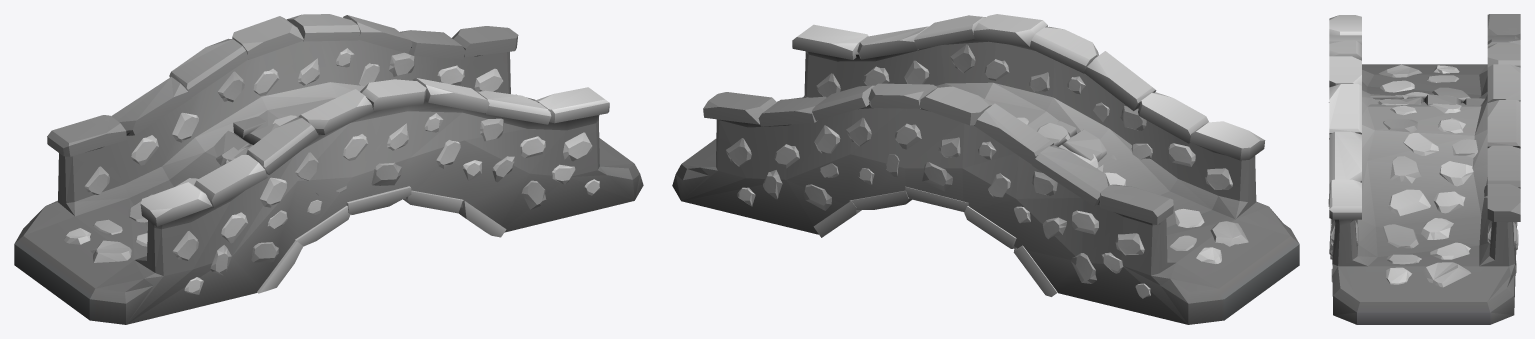
Rendered from bridgestone.glb.
The picture shows the model from 3 angles, left to right: view 1: azimuth 30°, elevation 25°; view 2: azimuth 150°, elevation 25°; view 3: azimuth 270°, elevation 25°; orthographic projection. The views are drawn at different scales.
Visible parts, largest first — view 1: BridgeStone_mesh2, BridgeStone_mesh3, BridgeStone_mesh1, BridgeStone_mesh4; view 2: BridgeStone_mesh2, BridgeStone_mesh3, BridgeStone_mesh1, BridgeStone_mesh4; view 3: BridgeStone_mesh2, BridgeStone_mesh3, BridgeStone_mesh1, BridgeStone_mesh4.
Boxes of the visible parts, bbox=[...] form: BridgeStone_mesh2: bbox=[14, 40, 643, 324]; BridgeStone_mesh3: bbox=[47, 14, 609, 293]; BridgeStone_mesh1: bbox=[64, 48, 599, 294]; BridgeStone_mesh4: bbox=[214, 116, 317, 194]; BridgeStone_mesh2: bbox=[672, 39, 1299, 324]; BridgeStone_mesh3: bbox=[703, 14, 1265, 296]; BridgeStone_mesh1: bbox=[726, 44, 1248, 298]; BridgeStone_mesh4: bbox=[1046, 121, 1116, 171]; BridgeStone_mesh2: bbox=[1331, 64, 1516, 324]; BridgeStone_mesh3: bbox=[1329, 14, 1520, 259]; BridgeStone_mesh1: bbox=[1328, 64, 1518, 287]; BridgeStone_mesh4: bbox=[1329, 94, 1484, 105].
Size of the model in its own units: 12.1 by 3.62 by 4.12.
1 material, 1 textured.
